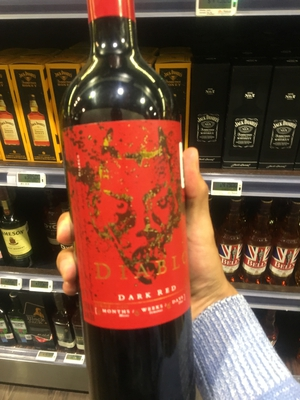diablo dark red: (60, 10, 208, 389)
